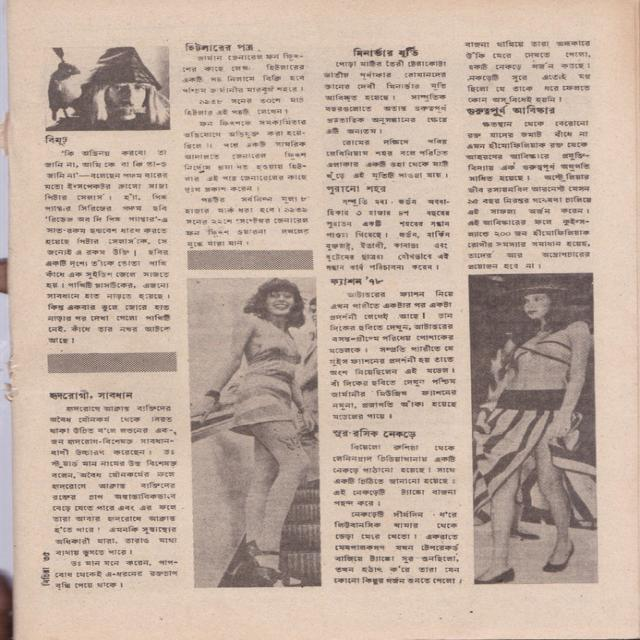image: (469, 275, 598, 585), (190, 279, 319, 588), (48, 46, 170, 131)
page number: (42, 551, 50, 561)
paragraph: (44, 146, 174, 345), (48, 401, 178, 557), (464, 119, 593, 270), (328, 288, 459, 420), (331, 509, 463, 585), (322, 58, 449, 136), (324, 197, 451, 272), (183, 118, 309, 193), (463, 38, 593, 104), (333, 442, 457, 507), (183, 195, 310, 250), (324, 137, 449, 182), (180, 53, 306, 96), (54, 558, 180, 591), (182, 95, 308, 117)
text: (42, 568, 50, 586)
title: (467, 102, 556, 118), (50, 390, 133, 400), (334, 428, 416, 438), (353, 46, 420, 58), (330, 276, 383, 288), (187, 42, 253, 51), (327, 185, 386, 195), (46, 135, 67, 144)
